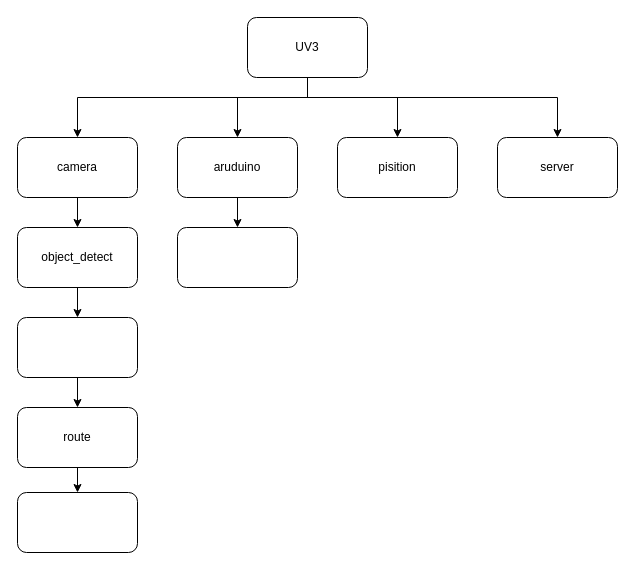
Some shapes in this 635 by 570 pixel diagram are drawn without their labels. The centre of each missing label's shape, as x and y in pixels:
"calc" belongs at point (77, 347).
"Order" belongs at point (237, 257).
"run" belongs at point (77, 522).
